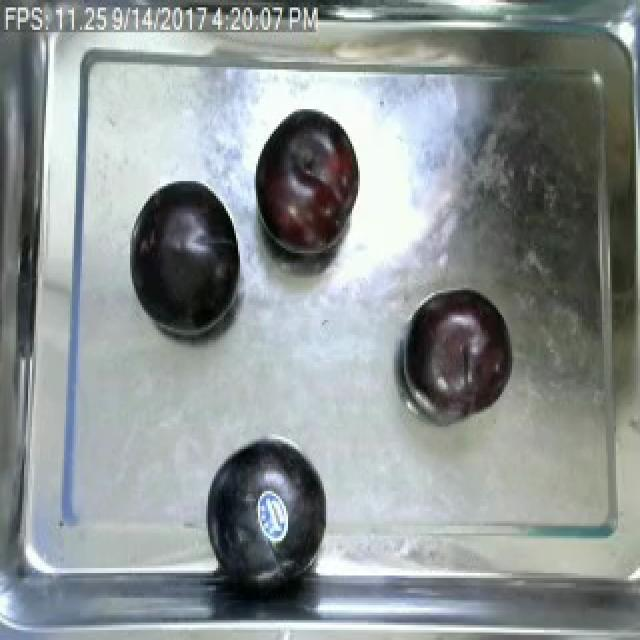Fruit: (194, 430, 336, 590), (126, 176, 248, 340), (250, 107, 362, 266), (400, 285, 516, 429)
